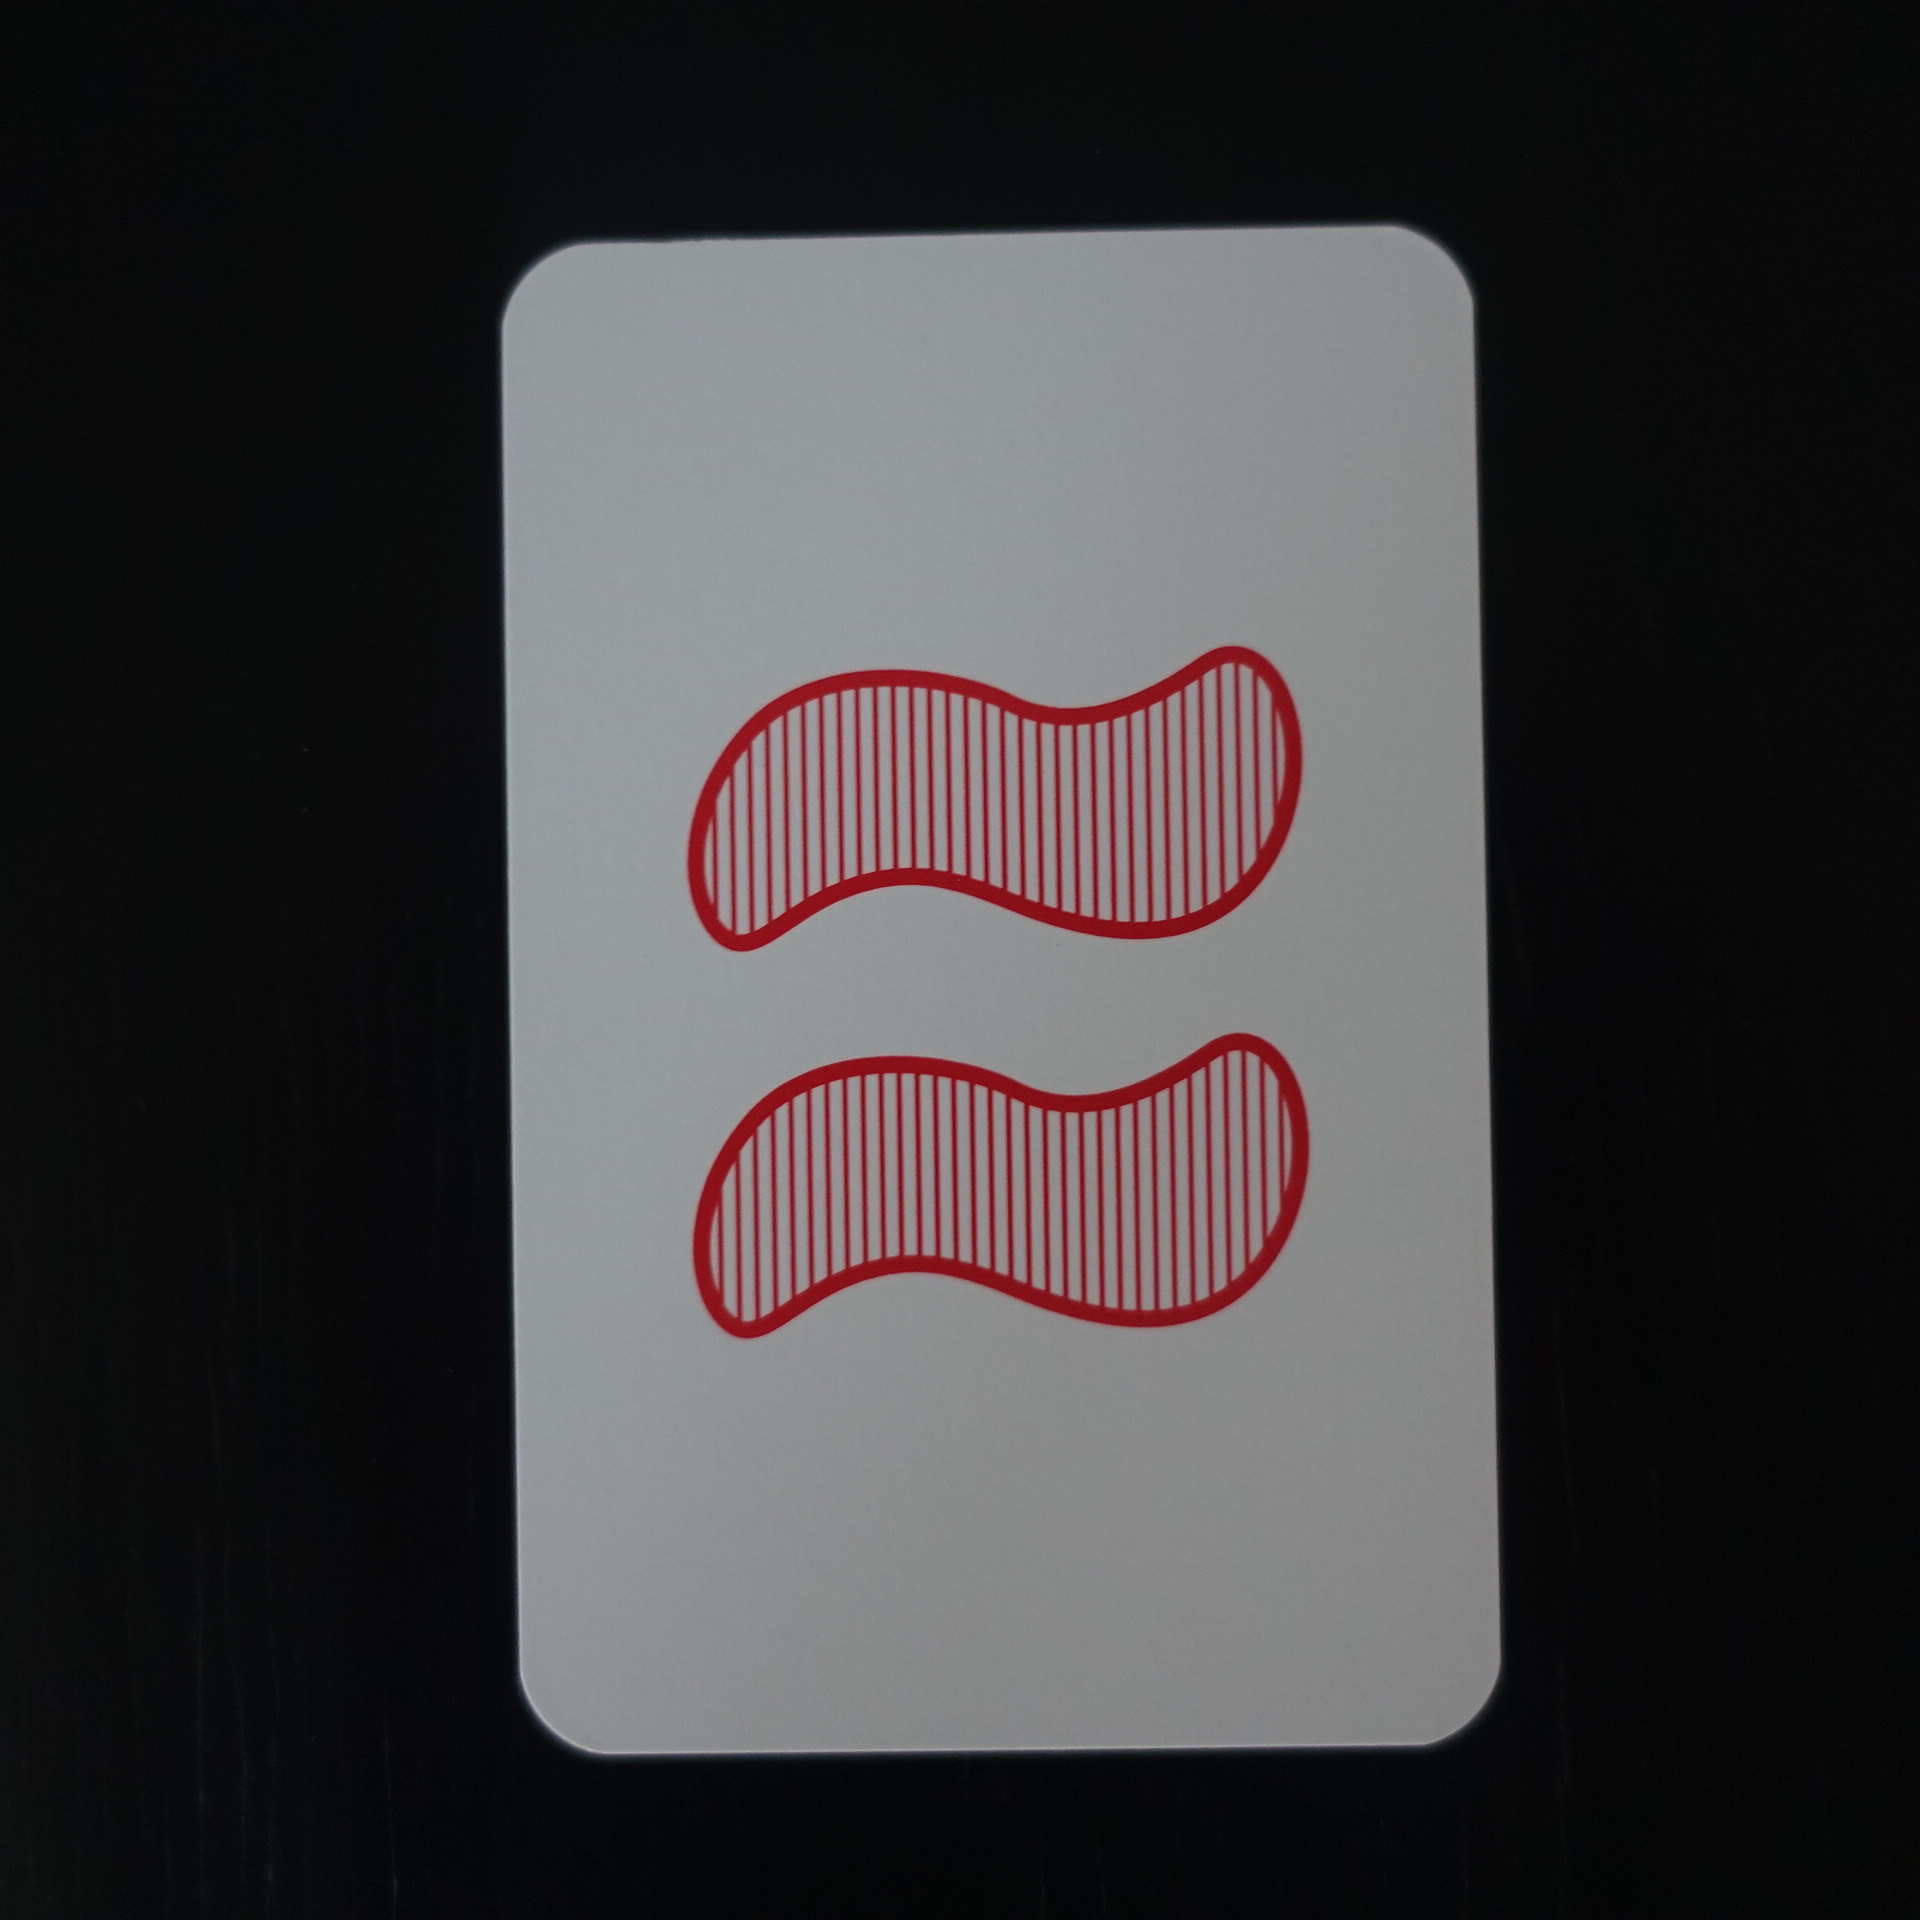c-2-f-d-r: (469, 207, 1530, 1779)
